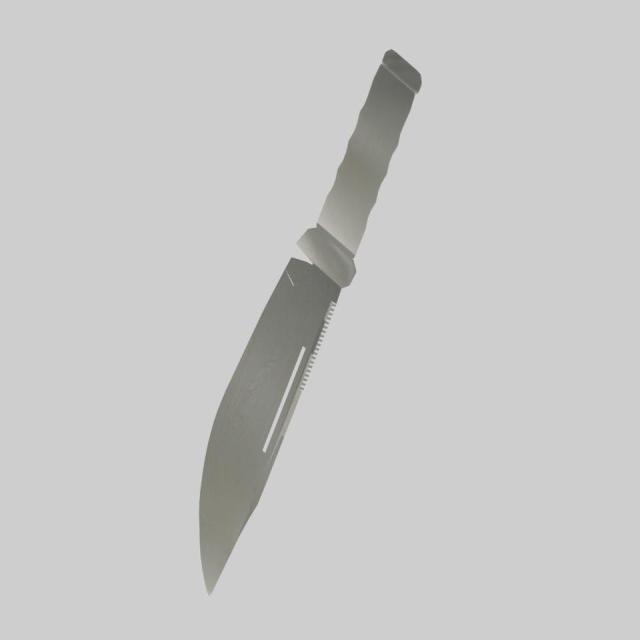knife: (308, 50, 421, 271)
